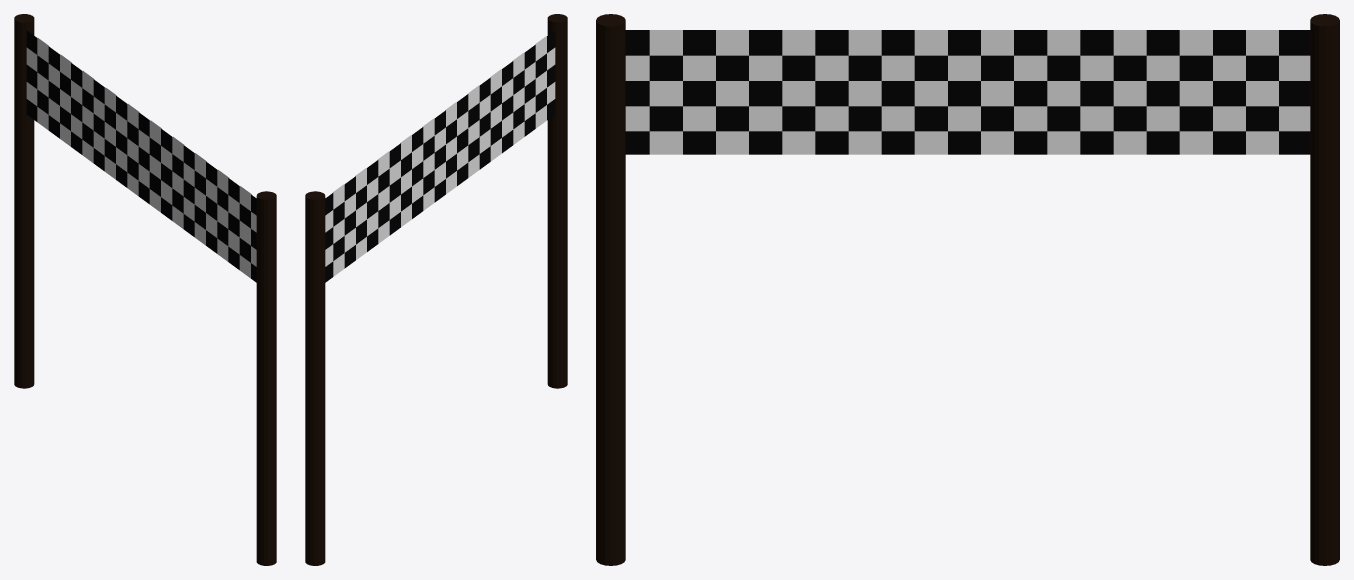
3 renders of one model, left to right at view 1: azimuth 30°, elevation 25°; view 2: azimuth 150°, elevation 25°; view 3: azimuth 270°, elevation 25°, orthographic. The views are drawn at different scales.
Visible parts, largest first — view 1: Cylinder; view 2: Cylinder; view 3: Cylinder.
Boxes of the visible parts, bbox=[...] form: Cylinder: bbox=[14, 14, 276, 565]; Cylinder: bbox=[305, 14, 567, 565]; Cylinder: bbox=[596, 14, 1339, 565].
Bounding box in the file's own units: 40 × 800 × 1000.
